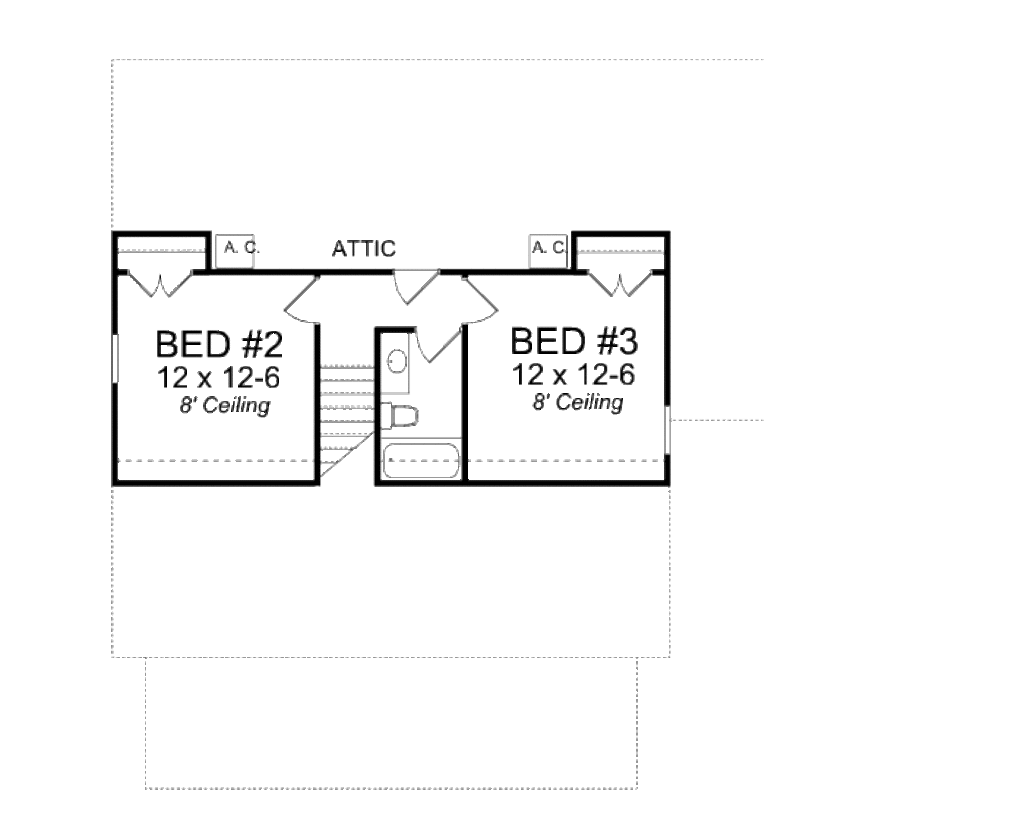door: (456, 274, 506, 326), (282, 270, 327, 326), (390, 265, 446, 310), (126, 266, 196, 301), (408, 324, 467, 363), (588, 266, 652, 300)
large_sink: (372, 389, 433, 433)
small_sink: (382, 333, 415, 388)
stairs: (315, 356, 372, 490)
tub: (378, 431, 472, 481)
window: (112, 329, 120, 380), (666, 404, 670, 458)
